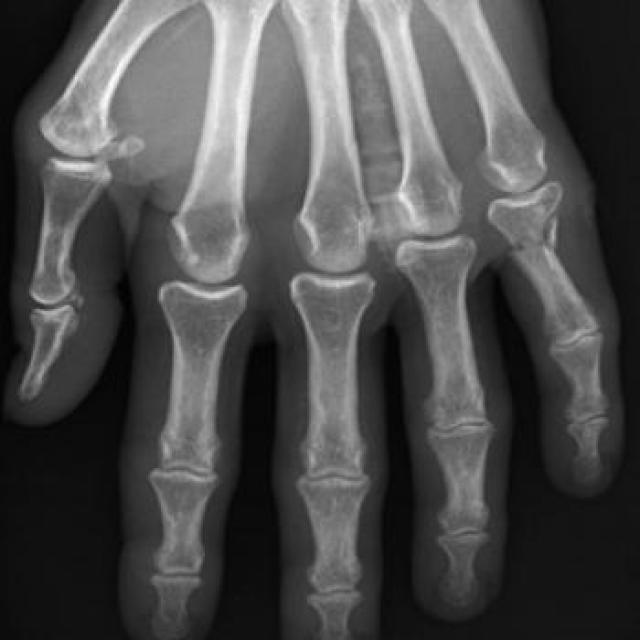Fracture: (499, 211, 584, 266)
